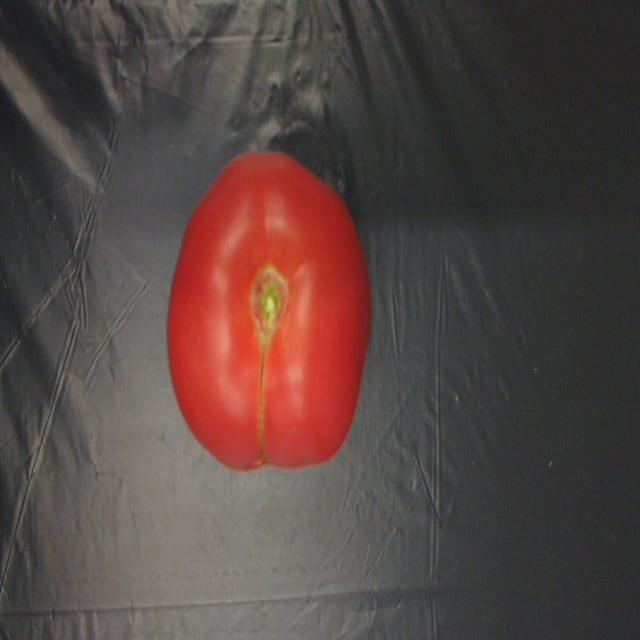kirmizi: (164, 130, 370, 476)
